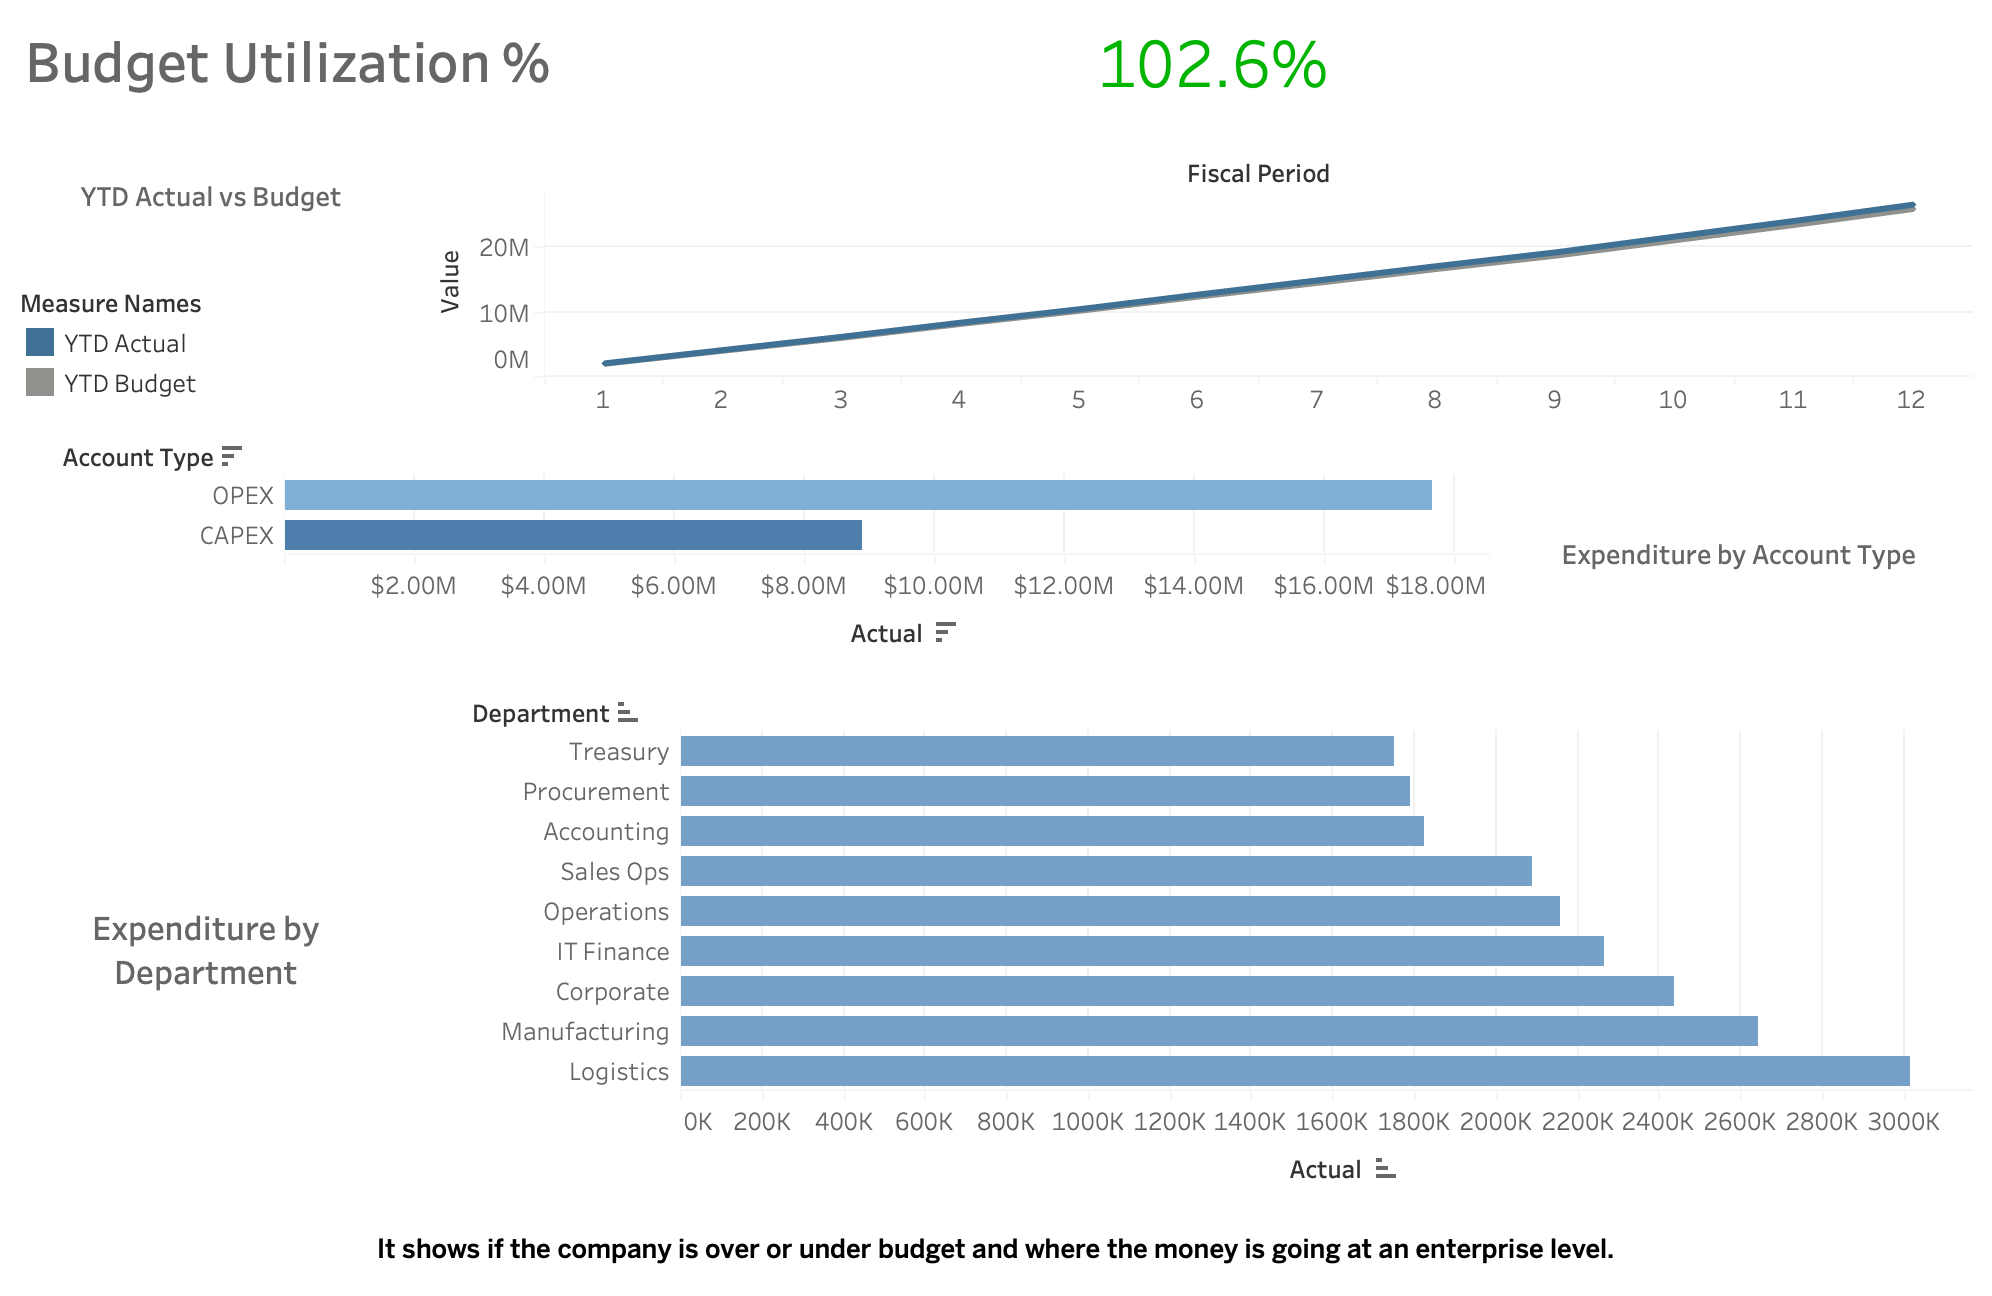

The page's visual inventory and layout, read from the dashboard file:
{"tool":"tableau","page":{"name":"Financial Control and Spend Mix","canvas":[1000,1000],"units":"permille","ordinal":2},"visuals":[{"type":"text","box":[8,12.2,518.4,81.4]},{"type":"worksheet","title":"Budget Utilization %","mark":"Text","box":[526.4,12.2,465.6,81.4]},{"type":"text","box":[8,93.7,198.7,125.1]},{"type":"worksheet","title":"Spend - YTD Actual vs Budget","mark":"Line","cols":["fiscal_period"],"box":[206.7,93.7,785.3,238.5]},{"type":"legend","title":"Spend - YTD Actual vs Budget","param":"[federated.09k086b0wn4mv01gt90ph1weaz7a].[:Measure Names]","box":[8,218.7,198.7,113.4]},{"type":"worksheet","title":"Spend - Account Type Mix","mark":"Automatic","rows":["account_type"],"cols":["Calculation_5434155918152826881"],"box":[8,332.2,743.4,196.1]},{"type":"text","box":[751.4,332.2,240.6,196.1]},{"type":"text","box":[8,528.3,194,410.4]},{"type":"worksheet","title":"Spend - Department","mark":"Bar","rows":["department"],"cols":["Calculation_5434155918152826881"],"box":[202,528.3,790,410.4]},{"type":"text","box":[8,938.7,984,49]}]}

Visuals, with their boxes on the dashboard's canvas, which has no fixed pixel size, in thousandths of its width and height (x1, y1, x2, y2). These are canvas units, not pixel positions in the 1992x1296 screenshot, which may show the page scaled, cropped or inside an application window:
text: {"left": 8, "top": 12, "right": 526, "bottom": 94}
"Budget Utilization %" worksheet (Text marks): {"left": 526, "top": 12, "right": 992, "bottom": 94}
text: {"left": 8, "top": 94, "right": 207, "bottom": 219}
"Spend - YTD Actual vs Budget" worksheet (Line marks): {"left": 207, "top": 94, "right": 992, "bottom": 332}
"Spend - YTD Actual vs Budget" legend: {"left": 8, "top": 219, "right": 207, "bottom": 332}
"Spend - Account Type Mix" worksheet: {"left": 8, "top": 332, "right": 751, "bottom": 528}
text: {"left": 751, "top": 332, "right": 992, "bottom": 528}
text: {"left": 8, "top": 528, "right": 202, "bottom": 939}
"Spend - Department" worksheet (Bar marks): {"left": 202, "top": 528, "right": 992, "bottom": 939}
text: {"left": 8, "top": 939, "right": 992, "bottom": 988}
